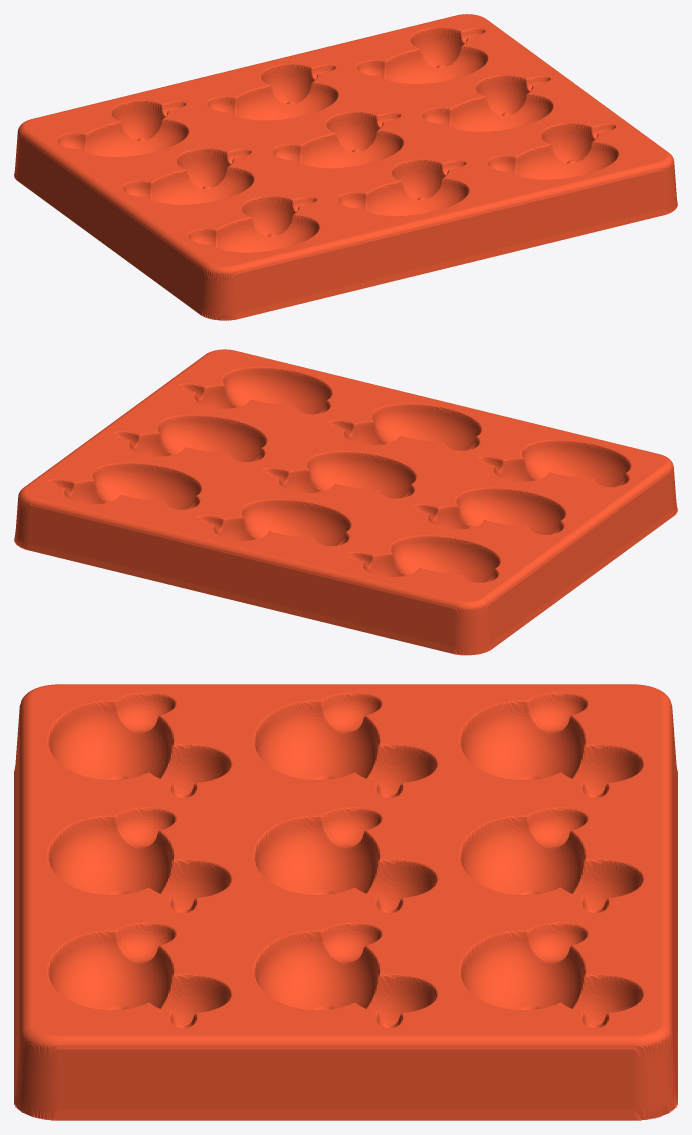
The model's file is mold.glb.
3 renders of one model, top to bottom at view 1: azimuth 30°, elevation 25°; view 2: azimuth 150°, elevation 25°; view 3: azimuth 270°, elevation 25°, orthographic. The views are drawn at different scales.
Parts seen in each view (by area): view 1: geometry_0; view 2: geometry_0; view 3: geometry_0.
Part boxes in pixels (x1,y1,x2,y2): geometry_0: (14, 14, 677, 320); geometry_0: (14, 349, 677, 655); geometry_0: (14, 684, 677, 1120).
Bounding box in the file's own units: 0.1753 × 0.0175 × 0.1349.
